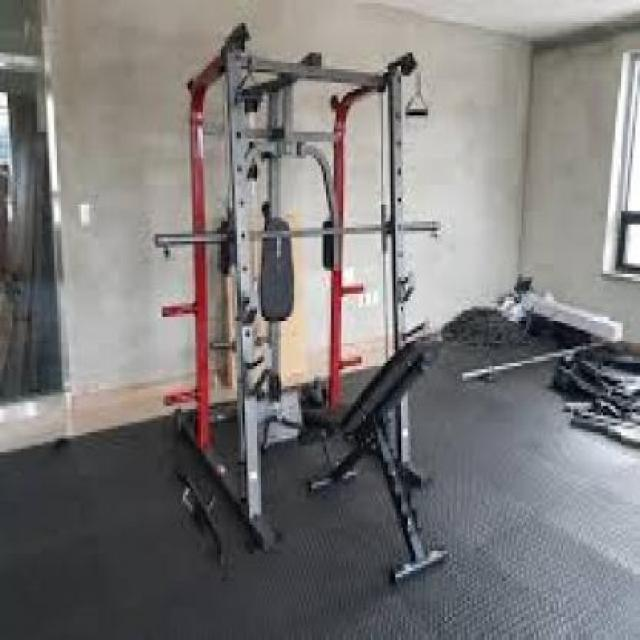smith machine: (155, 25, 451, 589)
